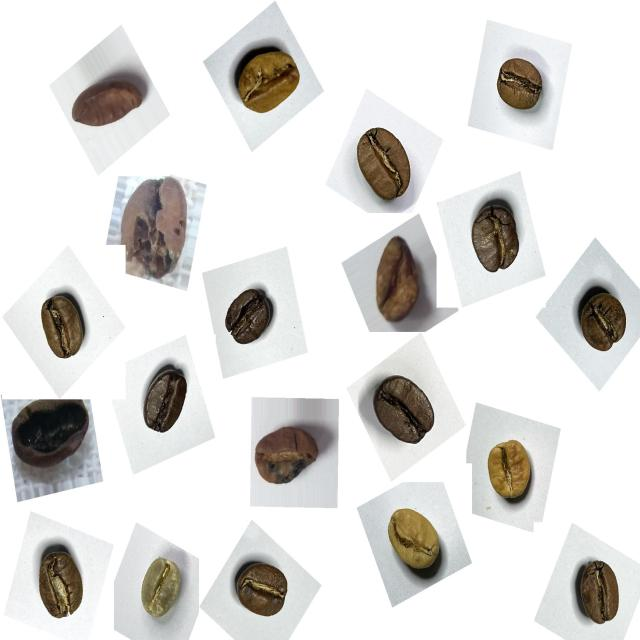bad: (110, 171, 196, 282), (5, 389, 95, 482), (245, 403, 330, 498), (361, 230, 434, 334), (68, 56, 154, 139)
dark: (366, 364, 445, 460), (130, 356, 196, 446), (215, 274, 280, 358)
green: (128, 549, 192, 634)
light: (227, 35, 312, 128), (374, 496, 454, 591), (27, 534, 95, 630), (475, 424, 542, 518)
medium: (346, 122, 424, 213), (459, 191, 532, 287), (228, 552, 300, 630), (568, 280, 636, 362), (30, 285, 95, 369), (566, 552, 633, 632), (487, 46, 555, 122)
